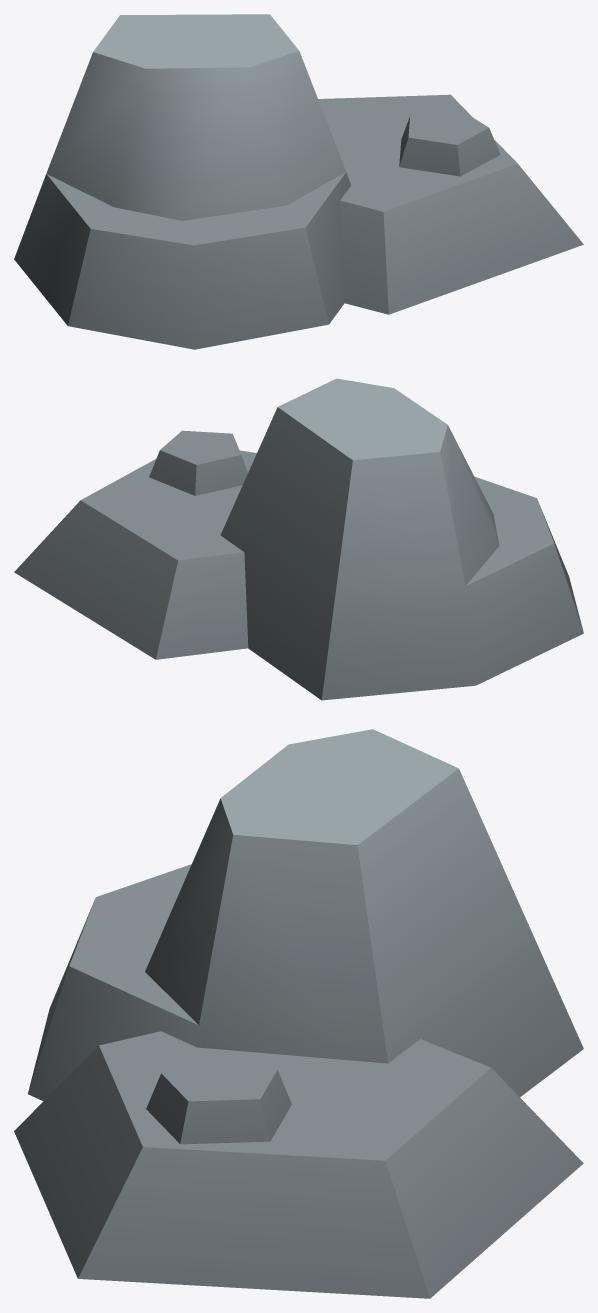
The model's file is d_kaykit_caillou_e.glb.
3 views of the same model, one above another, from view 1: azimuth 30°, elevation 25°; view 2: azimuth 150°, elevation 25°; view 3: azimuth 270°, elevation 25° (orthographic). The views are drawn at different scales.
Visible parts, largest first — view 1: d_kaykit_caillou_e; view 2: d_kaykit_caillou_e; view 3: d_kaykit_caillou_e.
Boxes of the visible parts, x1,y1,x2,y2 form: d_kaykit_caillou_e: (14,14,583,349); d_kaykit_caillou_e: (14,378,583,700); d_kaykit_caillou_e: (14,729,583,1298).
Size of the model in its own units: 0.4881 by 0.1948 by 0.3475.
Materials: 1 (1 with a texture image).
